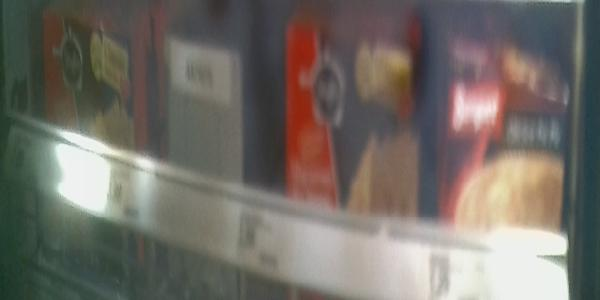pizza1: (281, 1, 425, 216), (440, 1, 570, 219), (38, 4, 148, 147)
